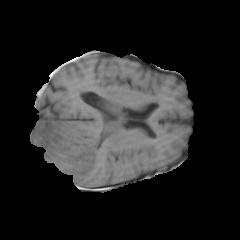glioma: (33, 120, 102, 181)
